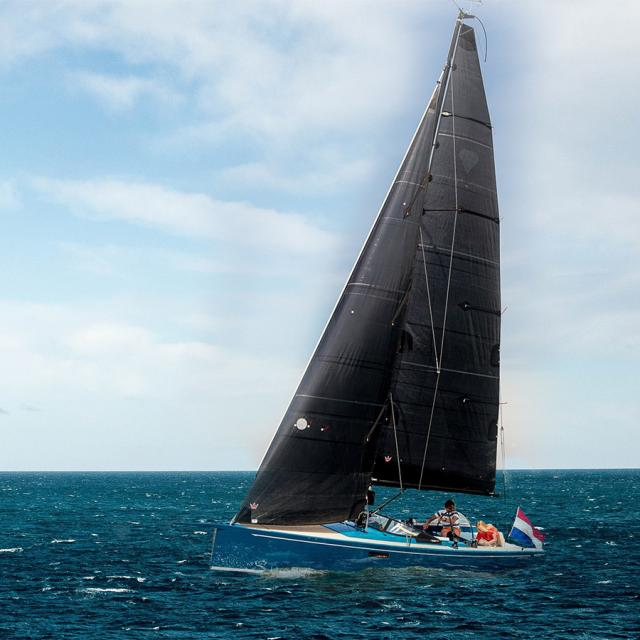boat: (195, 0, 558, 594)
